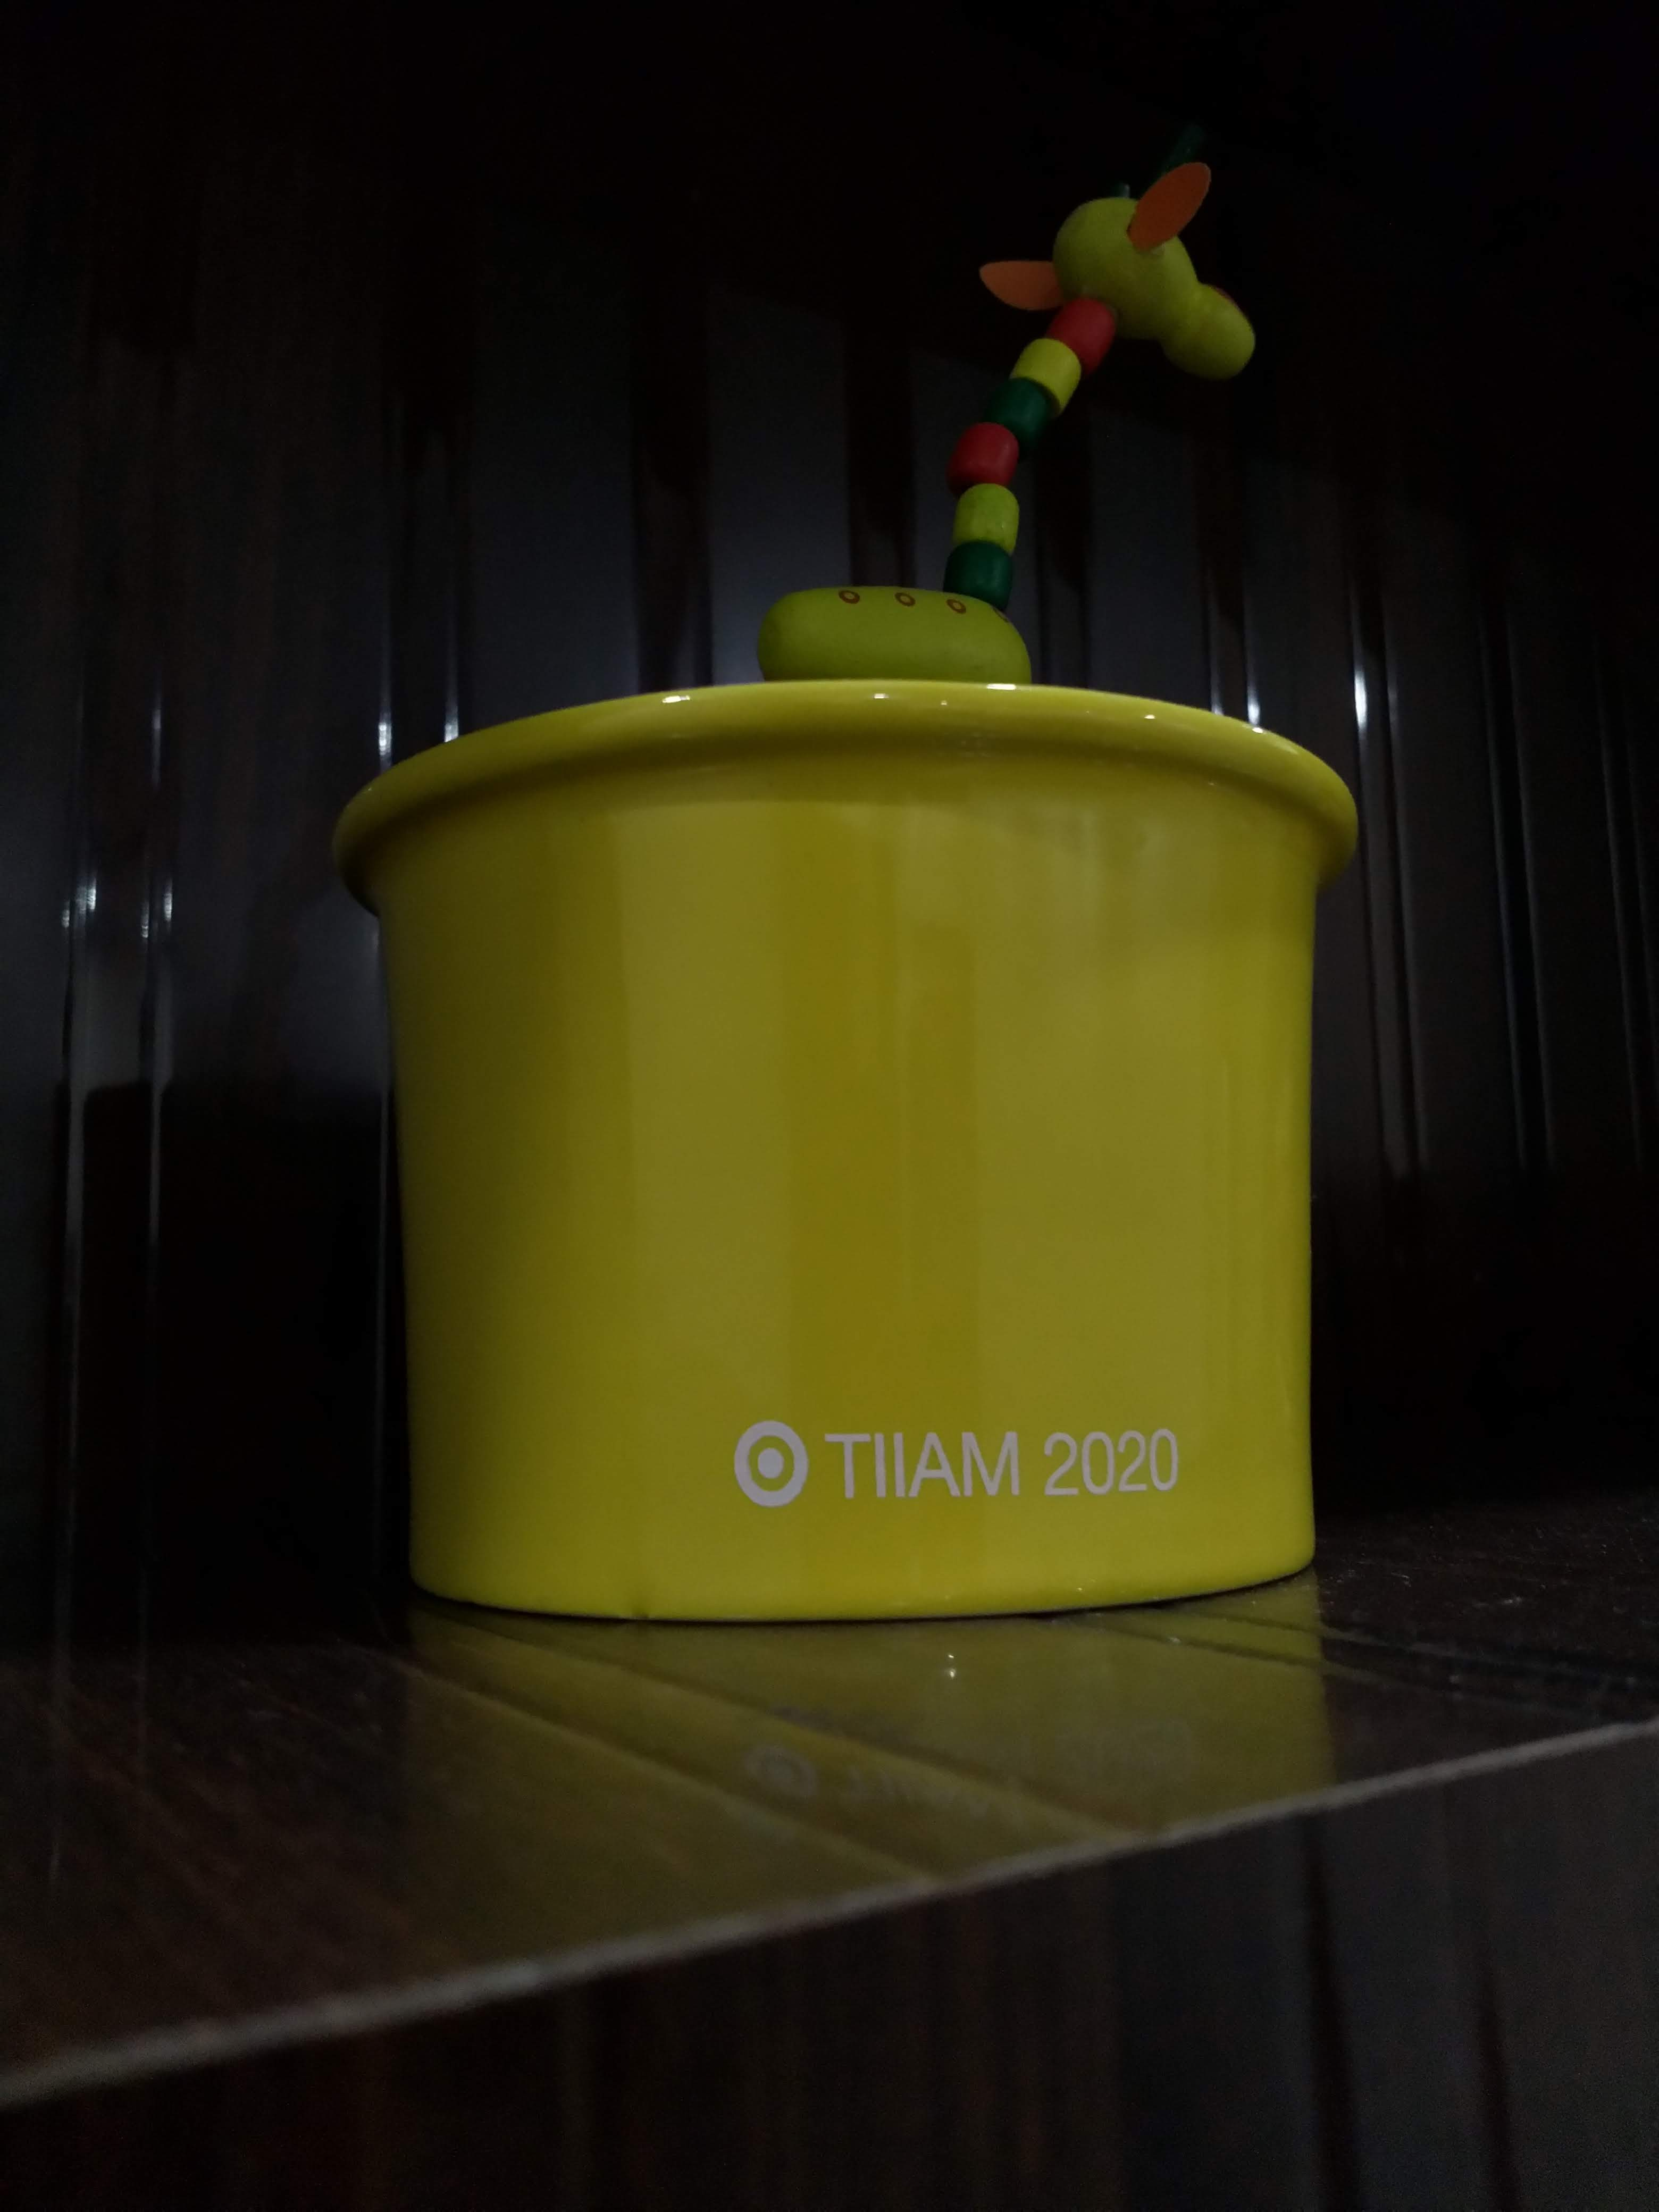bullseye: (701, 1399, 823, 1527)
